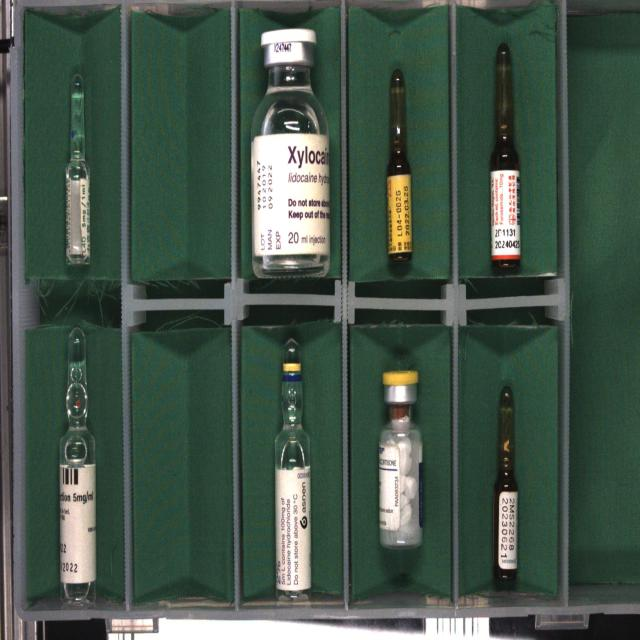Vials: (251, 28, 330, 278), (379, 370, 423, 547)
